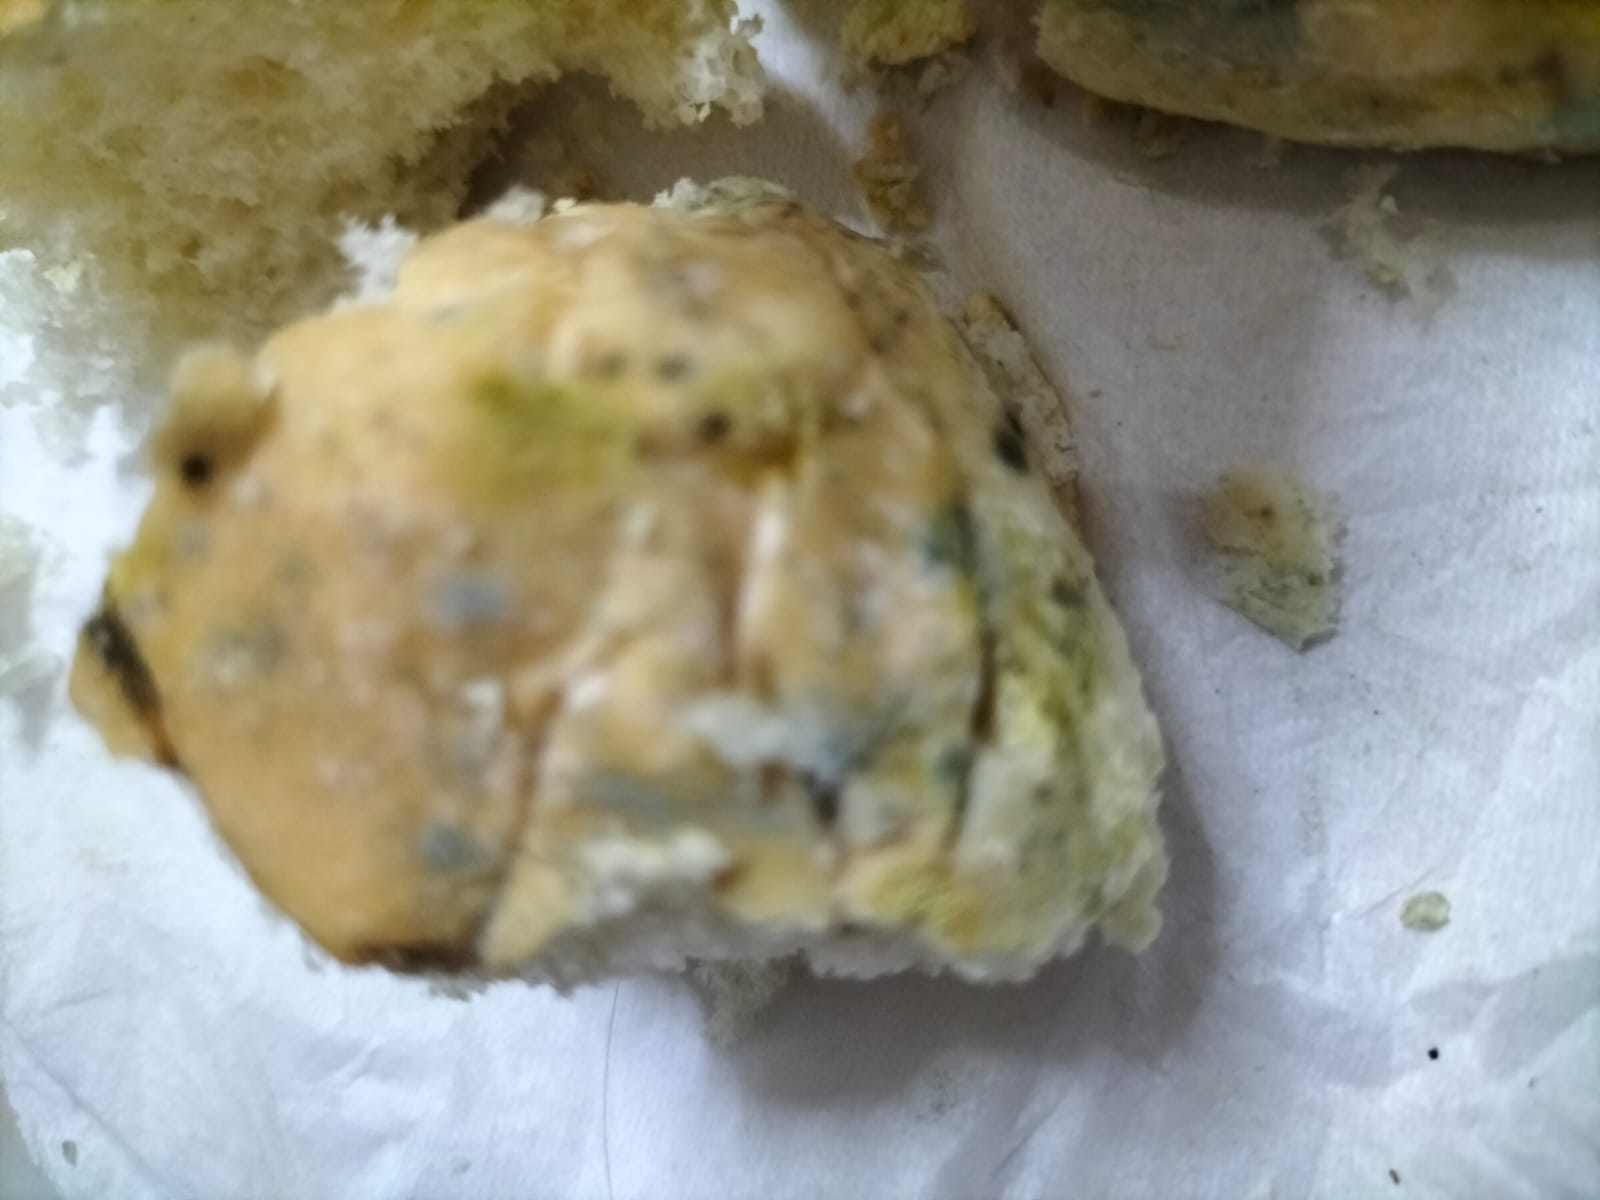mold_bread: (464, 340, 789, 489), (653, 681, 942, 842), (999, 666, 1091, 845), (888, 504, 1023, 608), (428, 563, 520, 649), (965, 415, 1048, 492), (416, 807, 484, 884), (157, 437, 234, 502)
